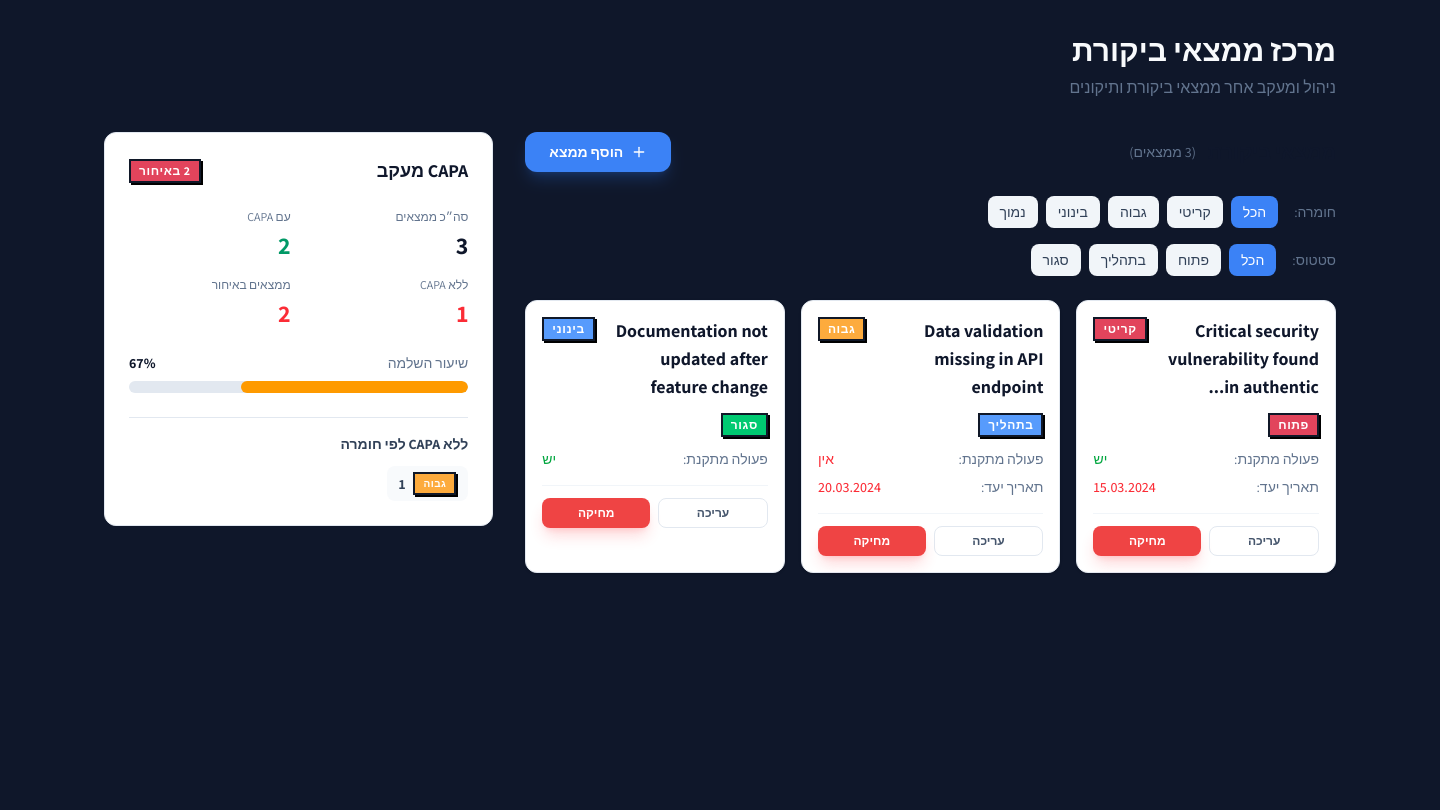
Test: FindingsPage › add finding modal › closes modal when cancel clicked
The image size is (1440, 810).
What coordinates should you click on to do the following:
click the button "הוסף ממצא"
I would click on:
 (598, 152)
Its box is [525,132,671,172].
(page scrolled)
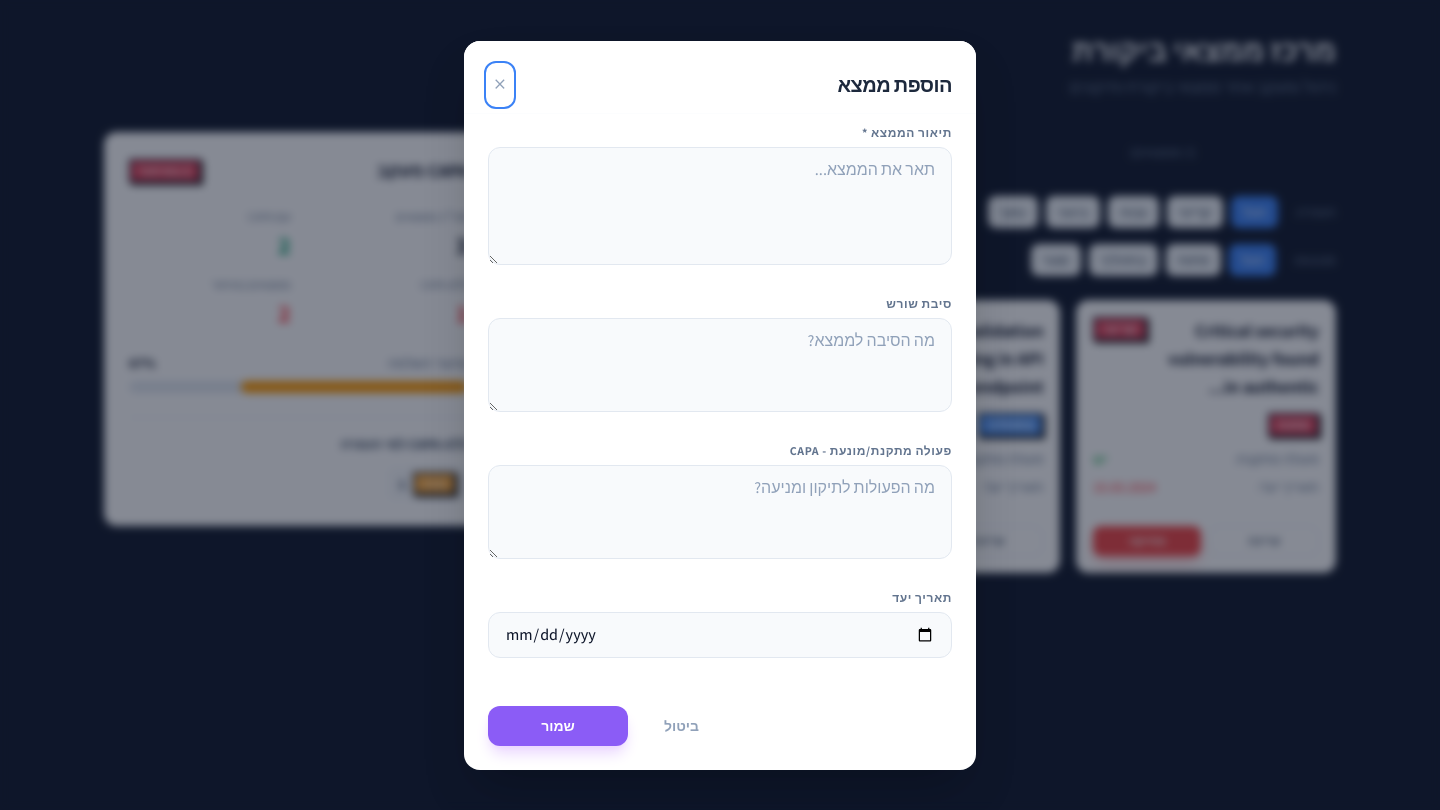
Now the element with test id "modal-overlay" is shown
What coordinates should you click on to do the following:
click the button with test id "finding-form-cancel-button"
I would click on:
 (682, 726)
Its box is [640,706,723,746].
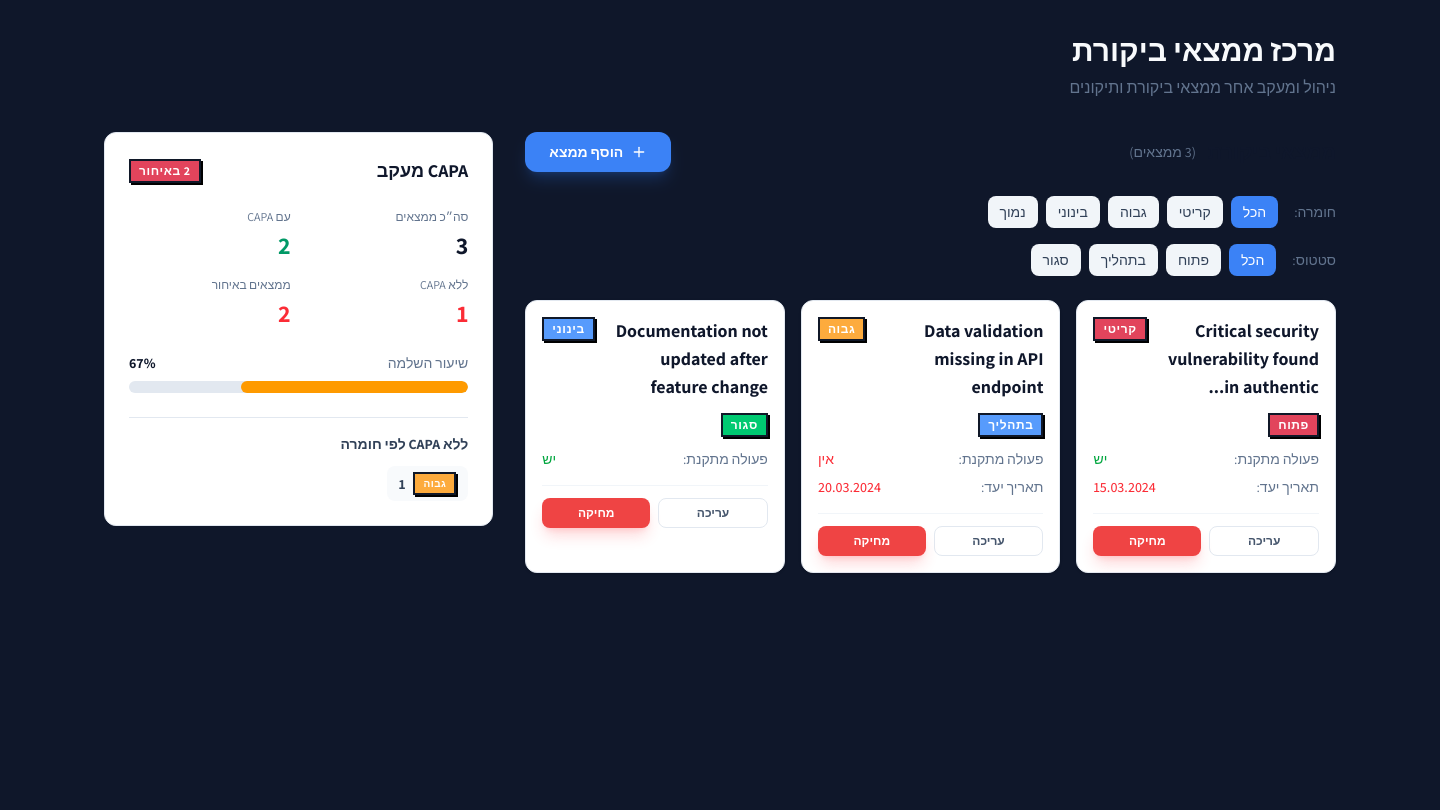
Now the element with test id "modal-overlay" is gone
